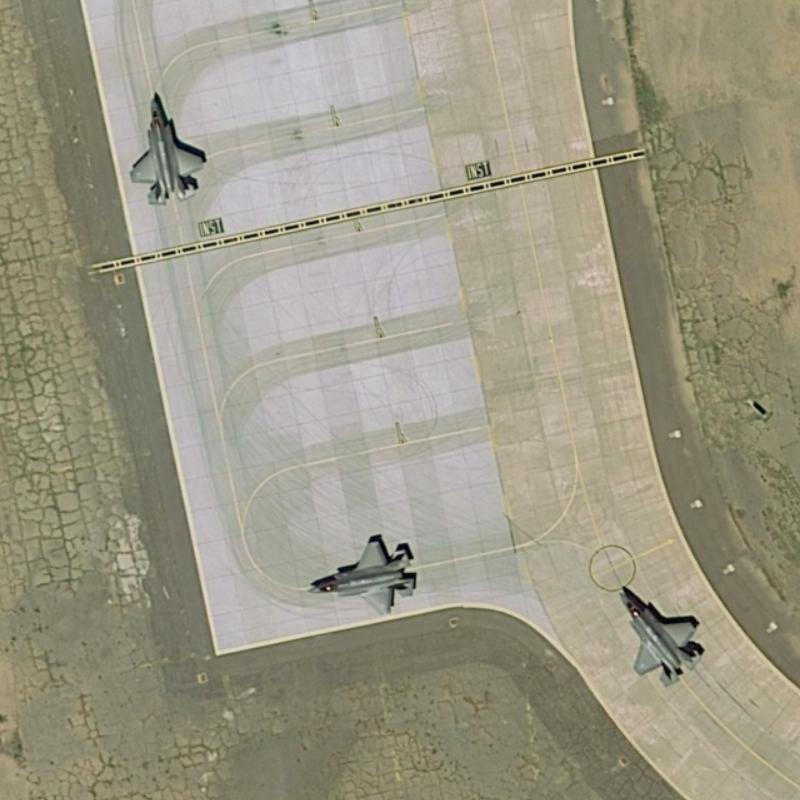A15: (292, 527, 422, 619), (119, 86, 214, 210), (614, 578, 709, 690)
